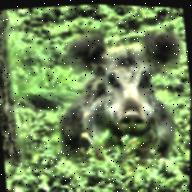boar: (29, 2, 192, 185)
